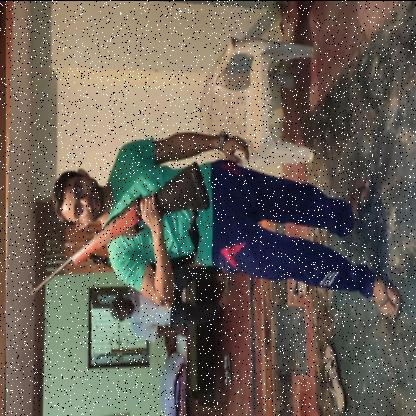rifle: (28, 157, 213, 297)
